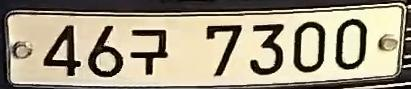0: (290, 20, 330, 75), (332, 16, 369, 72)
3: (248, 21, 289, 77)
4: (39, 21, 85, 79)
6: (85, 24, 127, 82)
7: (202, 22, 247, 78)
구: (127, 24, 171, 80)
